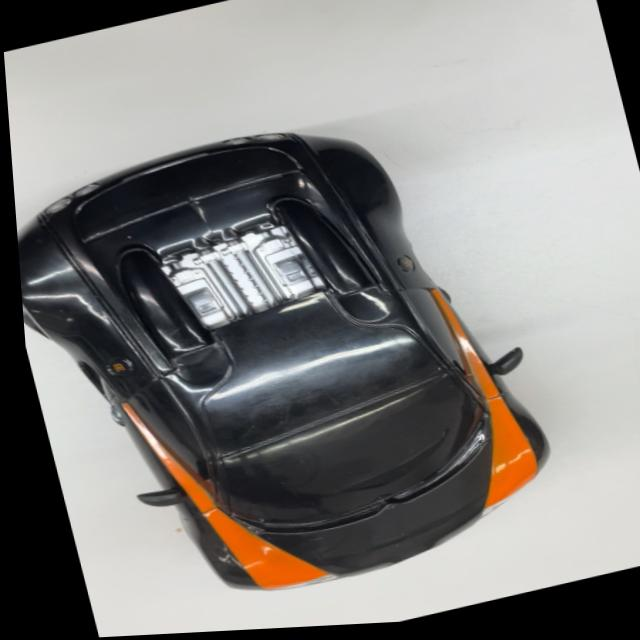vehicle_body: (8, 78, 590, 640)
